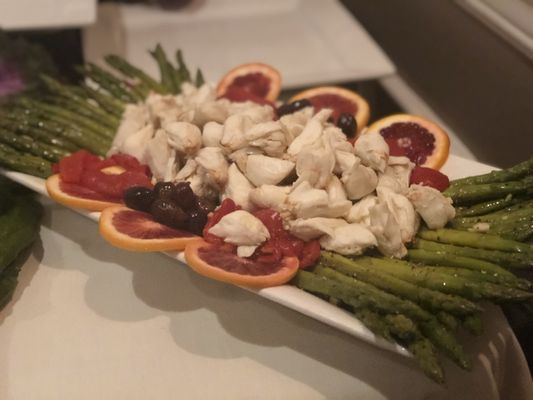curry: (4, 2, 533, 400)
